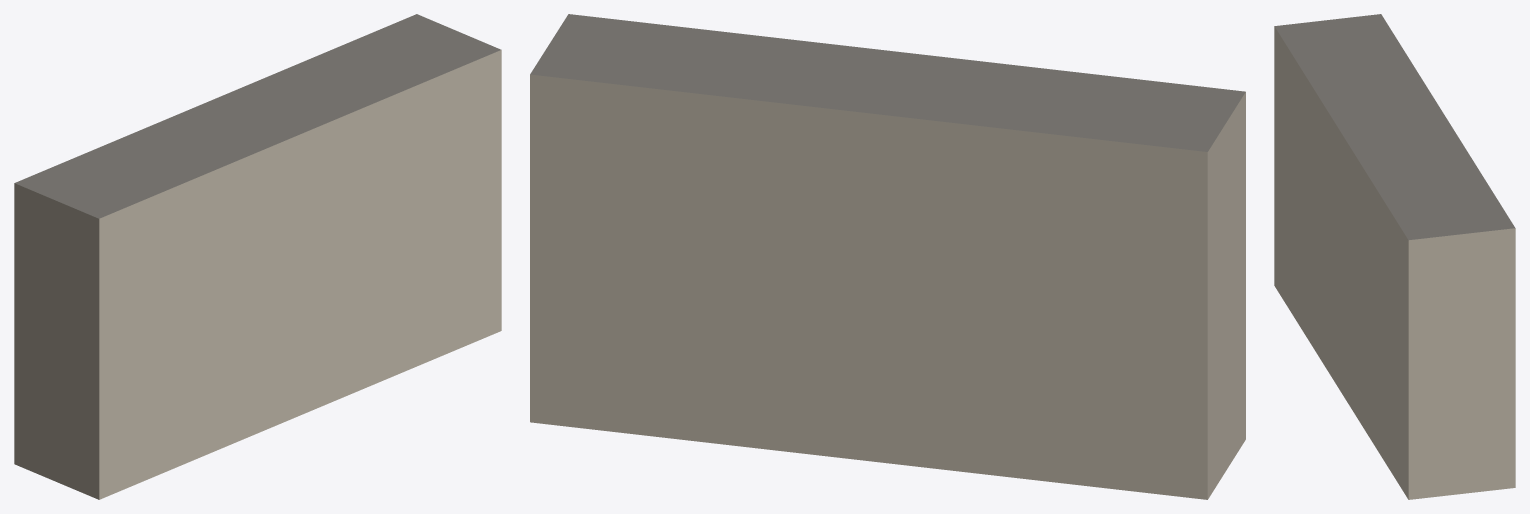
The picture shows the model from 3 angles, left to right: view 1: azimuth 30°, elevation 25°; view 2: azimuth 150°, elevation 25°; view 3: azimuth 270°, elevation 25°; orthographic projection. The views are drawn at different scales.
Parts seen in each view (by area): view 1: HP-w378107219; view 2: HP-w378107219; view 3: HP-w378107219.
Part boxes in pixels (x1,y1,x2,y2): HP-w378107219: (14,14,501,499); HP-w378107219: (530,14,1245,499); HP-w378107219: (1274,14,1515,499).
Size of the model in its own units: 28.02 by 15 by 12.62.
